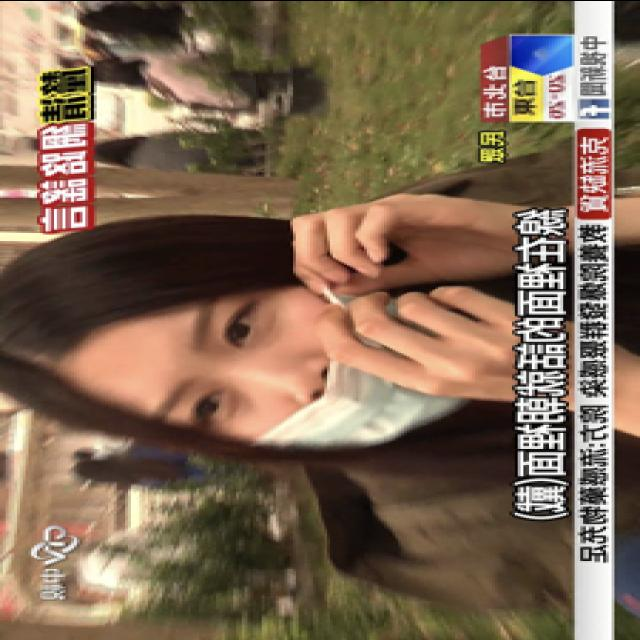mask_weared_incorrect: (131, 285, 478, 451)
